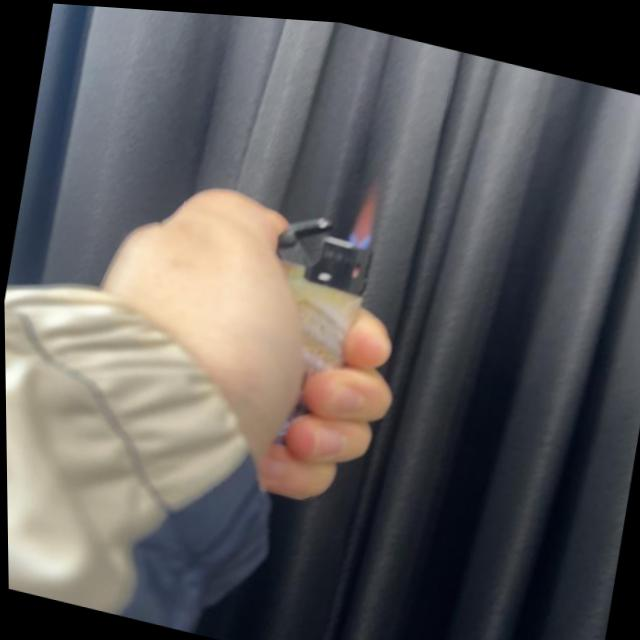Fire: (344, 176, 382, 247)
